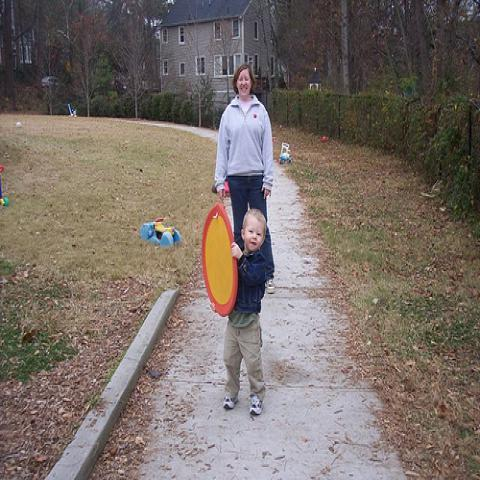car: (42, 76, 65, 87)
